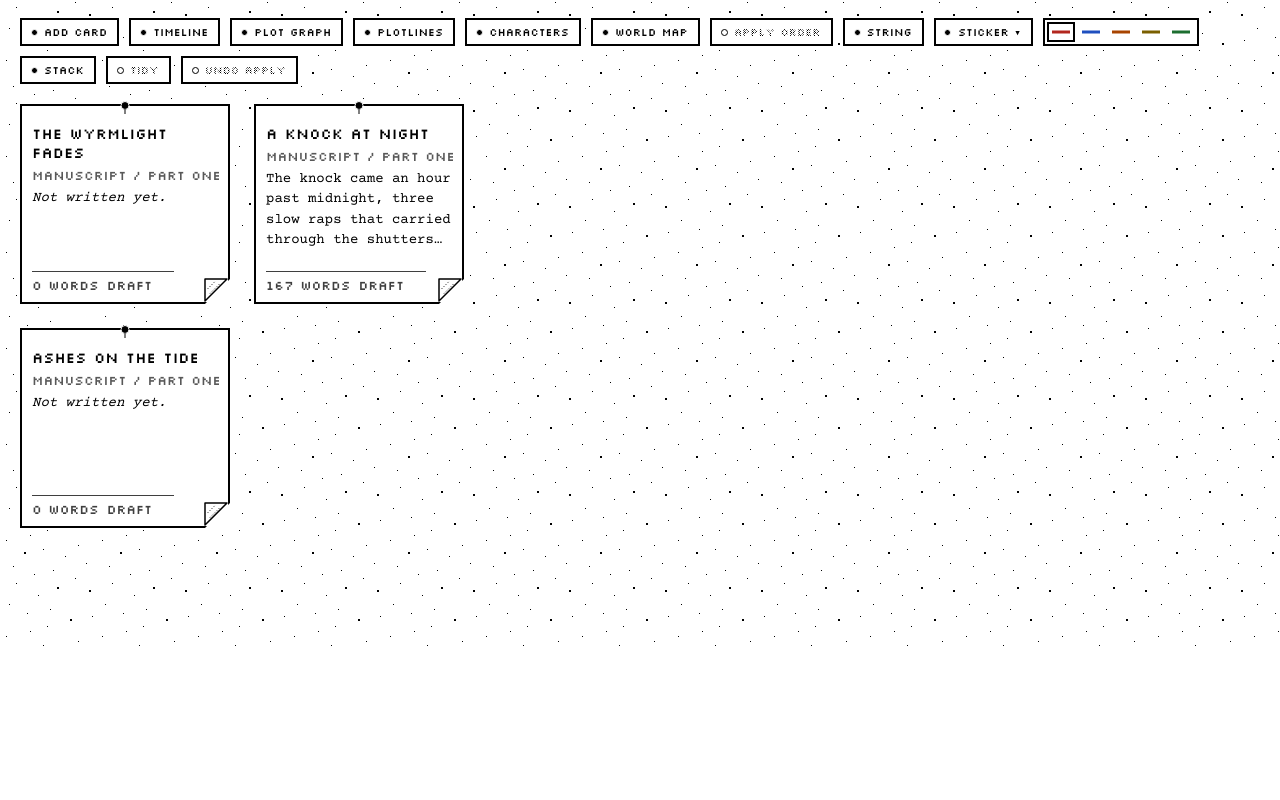
Test: the back of the card › shows an unwritten scene its synopsis where the opening would be
This screenshot has width=1280, height=800.
Expected: the element that starts with "The Wyrmlight Fades" shows "Not written yet.", top-left (22, 116), bottom-right (228, 302)
Click the button named "Turn The Wyrmlight Fades over". click: (218, 292)
box: top-left (204, 278), bottom-right (231, 305)
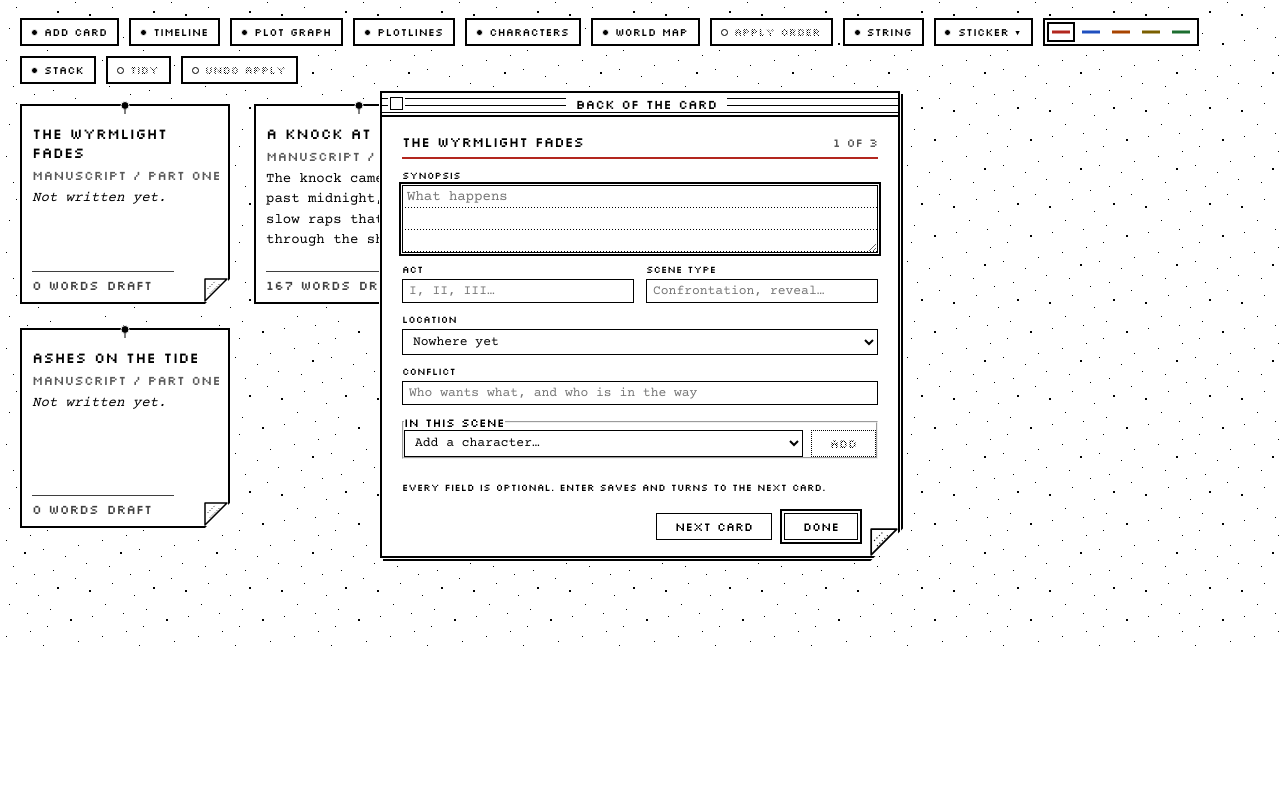
Type "Reed comes for the ledger." into the text box labelled "Synopsis". click: (640, 218)
box: top-left (402, 184), bottom-right (878, 252)
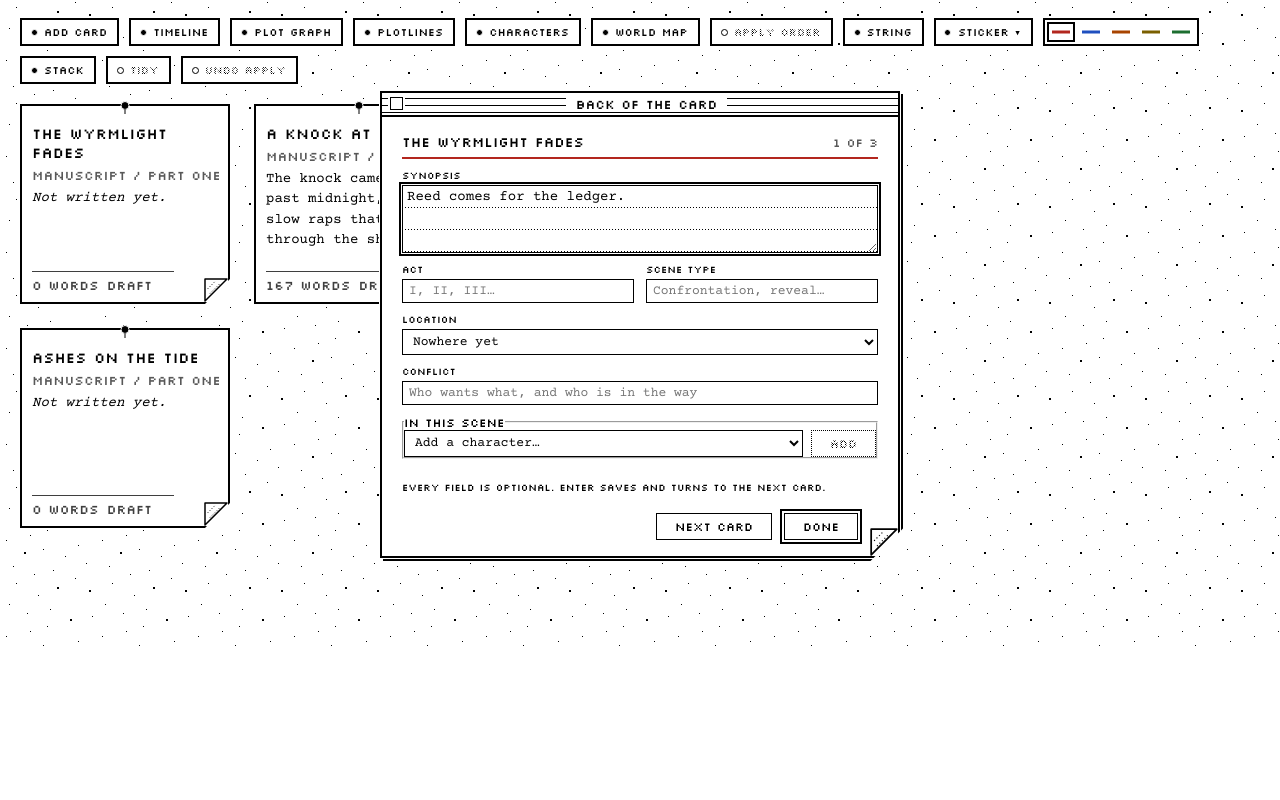
Click the button "Done". click: (821, 526)
box: top-left (784, 512), bottom-right (858, 540)
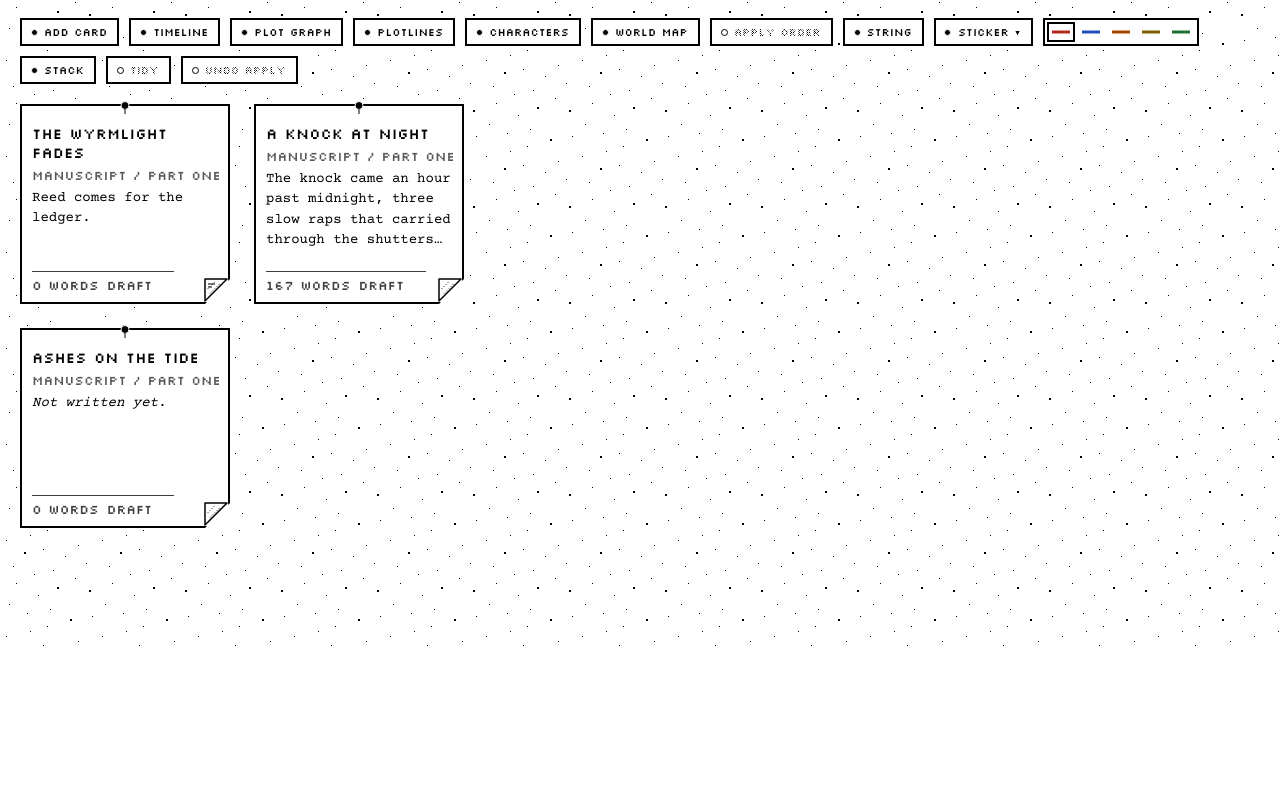
Result: the text "Reed comes for the ledger." is shown at top-left (32, 190), bottom-right (183, 226)
Result: the text "Not written yet." is gone
